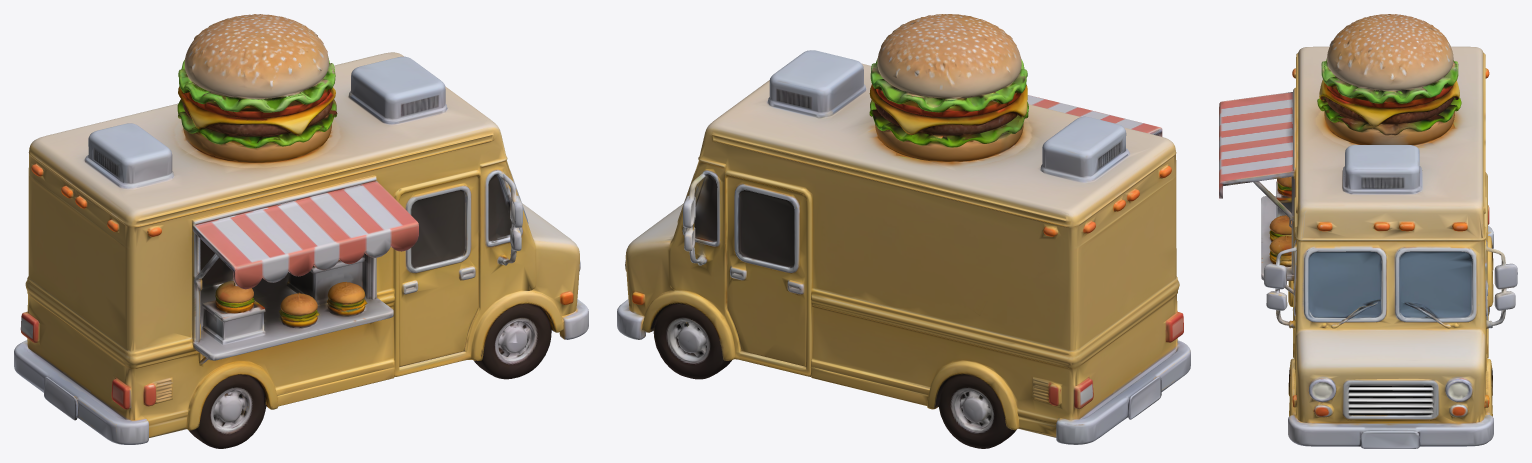
Rendered from burgertruck.glb.
3 views of the same model, side by side, from view 1: azimuth 30°, elevation 25°; view 2: azimuth 150°, elevation 25°; view 3: azimuth 270°, elevation 25° (orthographic). The views are drawn at different scales.
Visible parts, largest first — view 1: node_0.010; view 2: node_0.010; view 3: node_0.010.
Part boxes in pixels (x1,y1,x2,y2): node_0.010: (14,14,588,448); node_0.010: (617,14,1190,448); node_0.010: (1219,14,1517,448).
Bounding box in the file's own units: 5.38 × 3.88 × 3.23.
Materials: 1 (1 with a texture image).
